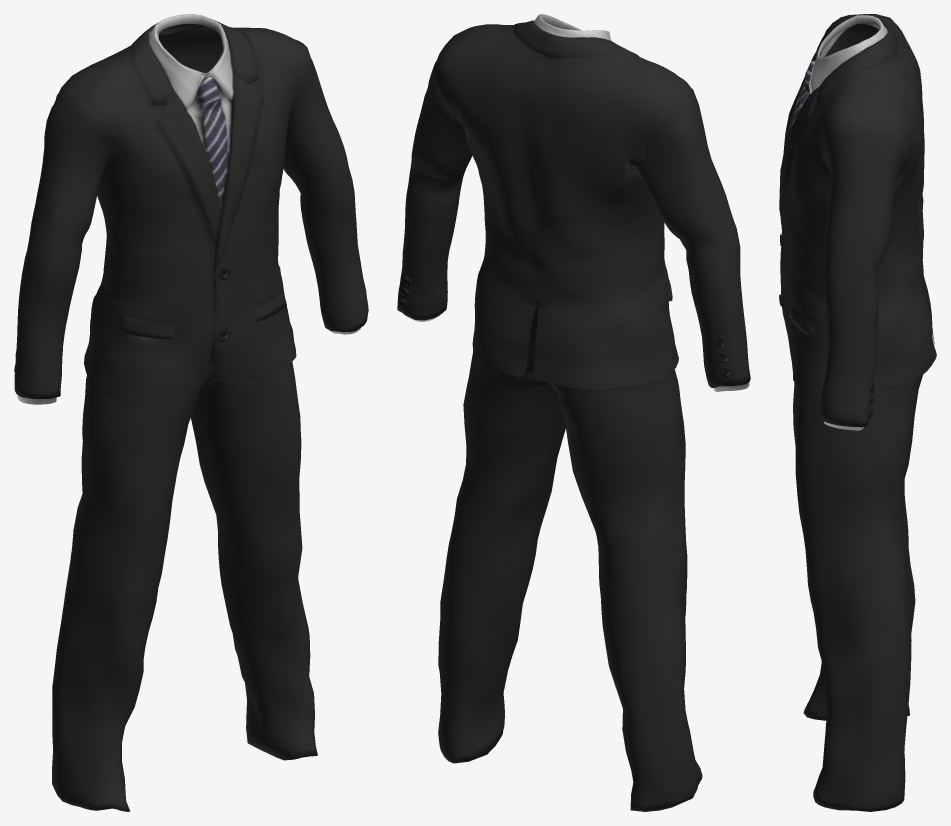
The model's file is male-elegantsuit01.glb.
3 renders of one model, left to right at view 1: azimuth 30°, elevation 25°; view 2: azimuth 150°, elevation 25°; view 3: azimuth 270°, elevation 25°, orthographic. The views are drawn at different scales.
Visible parts, largest first — view 1: Human.male_elegantsuit01; view 2: Human.male_elegantsuit01; view 3: Human.male_elegantsuit01.
Part boxes in pixels (left/top/right/bottom): Human.male_elegantsuit01: left=14, top=14, right=368, bottom=811; Human.male_elegantsuit01: left=397, top=14, right=750, bottom=811; Human.male_elegantsuit01: left=779, top=14, right=936, bottom=811.
Bounding box in the file's own units: 0.7541 × 1.57 × 0.3054.
Materials: 1 (1 with a texture image).
